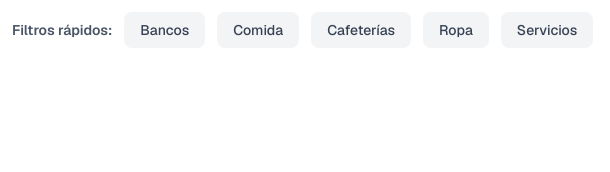
Scenario: FilterChips › shows tooltip when clicking different chips
Click the button "Comida".
click(258, 30)  # box [217,12,299,48]
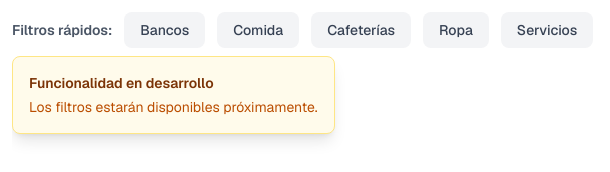
Result: the text "Funcionalidad en desarrollo" is shown at [29,74,214,92]
